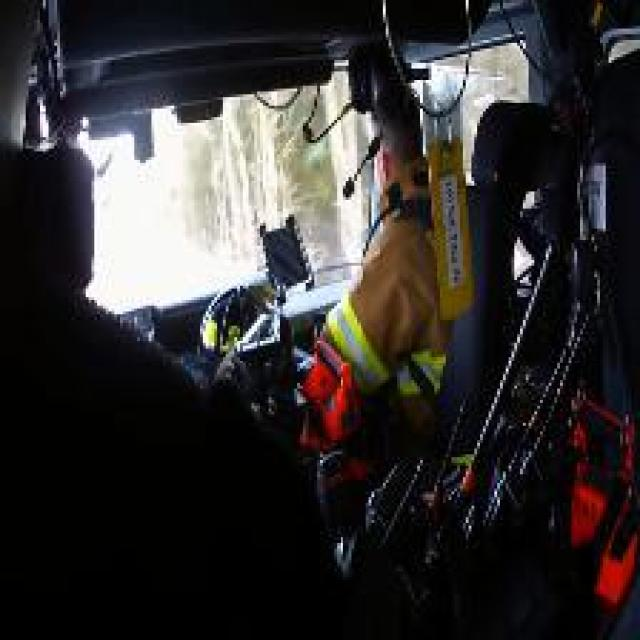other: (518, 406, 634, 589), (287, 339, 359, 439)
